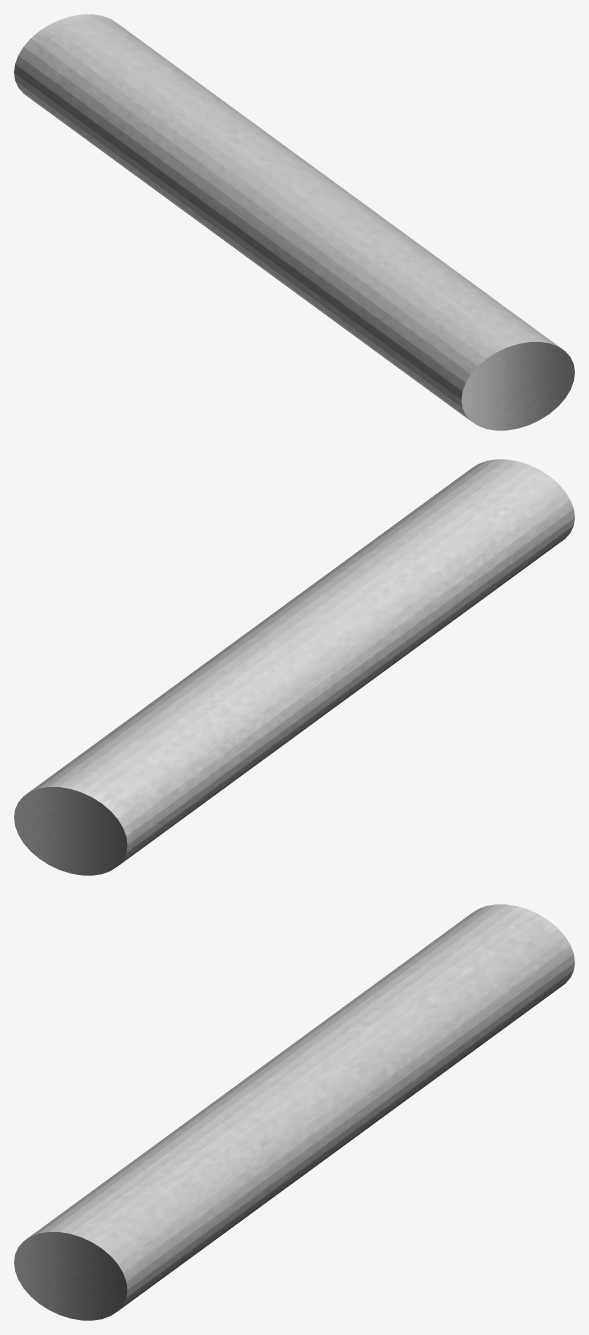
The model's file is SandyTreedome-workshopmonkeybar.glb.
The picture shows the model from 3 angles, top to bottom: view 1: azimuth 30°, elevation 25°; view 2: azimuth 150°, elevation 25°; view 3: azimuth 330°, elevation 25°; orthographic projection.
Visible parts, largest first — view 1: workshop_monkeybar; view 2: workshop_monkeybar; view 3: workshop_monkeybar.
Part boxes in pixels (x1,y1,x2,y2): workshop_monkeybar: (14,14,574,430); workshop_monkeybar: (14,459,574,875); workshop_monkeybar: (14,904,574,1320).
Bounding box in the file's own units: 0.8072 × 0.5751 × 5.51.
1 material, 1 textured.
